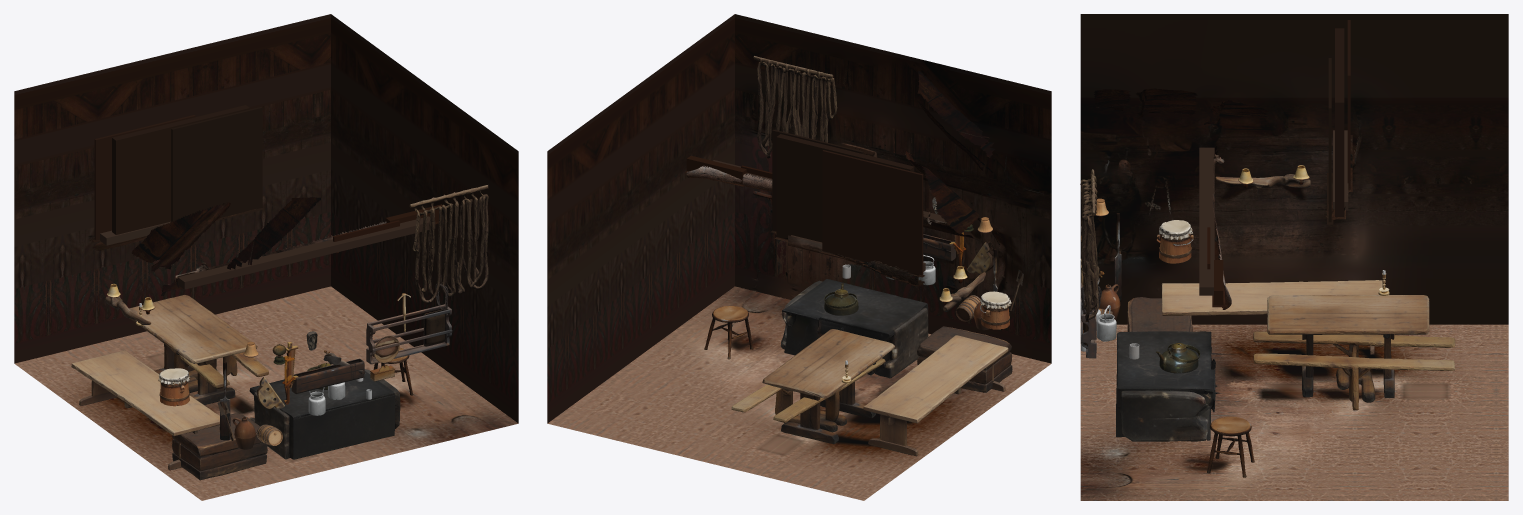
The model's file is scene_lite.glb.
3 renders of one model, left to right at view 1: azimuth 30°, elevation 25°; view 2: azimuth 150°, elevation 25°; view 3: azimuth 270°, elevation 25°, orthographic. The views are drawn at different scales.
Parts seen in each view (by area): view 1: room_wall_z_min, room_wall_x_max, room_floor, room_builtin_03_body, 022_stove, room_builtin_01_body, 010_dining_table, 003_bench, 020_rope, 004_bench, room_builtin_00_body, room_relief_03 (+11 smaller); view 2: room_wall_z_max, room_wall_x_max, room_floor, room_builtin_02_body, 022_stove, 003_bench, 010_dining_table, room_builtin_01_body, 020_rope, 001_bench, 004_bench, room_relief_04 (+9 smaller); view 3: room_wall_x_min, room_floor, 022_stove, 010_dining_table, 001_bench, 003_bench, room_builtin_00_body, 020_rope, room_builtin_01_body, 004_bench, 021_stool, room_relief_02 (+12 smaller).
Part boxes in pixels (x1,y1,x2,y2): room_wall_z_min: (14, 14, 330, 363); room_wall_x_max: (331, 14, 518, 423); room_floor: (15, 286, 518, 500); room_builtin_03_body: (171, 107, 262, 222); 022_stove: (249, 369, 400, 459); room_builtin_01_body: (112, 105, 249, 234); 010_dining_table: (129, 295, 257, 404); 003_bench: (71, 350, 219, 470); 020_rope: (409, 185, 488, 303); 004_bench: (172, 413, 267, 480); room_builtin_00_body: (178, 216, 435, 289); room_relief_03: (131, 202, 230, 271); room_wall_z_max: (735, 14, 1051, 363); room_wall_x_max: (547, 14, 734, 423); room_floor: (547, 286, 1050, 500); room_builtin_02_body: (822, 150, 923, 275); 022_stove: (780, 279, 928, 378); 003_bench: (863, 335, 1008, 456); 010_dining_table: (762, 329, 894, 443); room_builtin_01_body: (776, 134, 914, 242); 020_rope: (753, 56, 837, 158); 001_bench: (731, 358, 885, 432); 004_bench: (917, 326, 1012, 392); room_relief_04: (917, 71, 994, 157); room_wall_x_min: (1080, 14, 1508, 324); room_floor: (1080, 324, 1508, 500); 022_stove: (1116, 331, 1219, 441); 010_dining_table: (1267, 295, 1429, 397); 001_bench: (1253, 331, 1455, 410); 003_bench: (1161, 280, 1382, 354); room_builtin_00_body: (1199, 147, 1214, 295); 020_rope: (1080, 169, 1099, 320); room_builtin_01_body: (1335, 28, 1344, 216); 004_bench: (1127, 297, 1192, 331); 021_stool: (1207, 416, 1254, 477); room_relief_02: (1133, 88, 1197, 118).
Bounding box in the file's own units: 1.88 × 1.54 × 1.93.
Materials: 60 (60 with a texture image).
